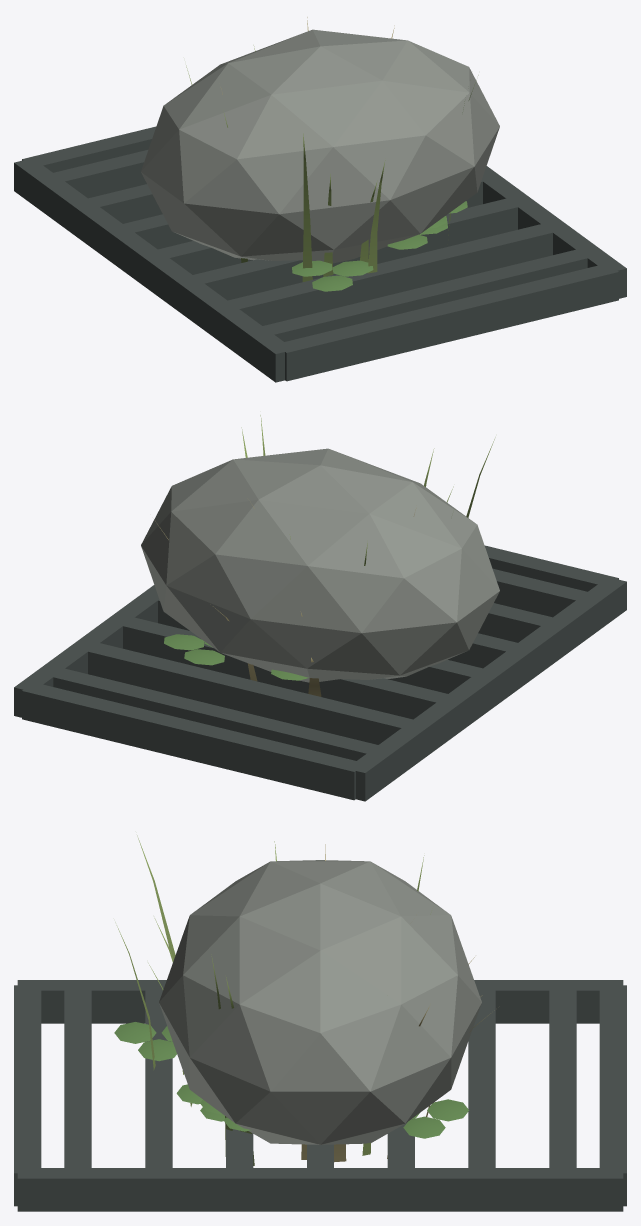
File: field-assets-CqvsqzPk.glb
3 renders of one model, top to bottom at view 1: azimuth 30°, elevation 25°; view 2: azimuth 150°, elevation 25°; view 3: azimuth 270°, elevation 25°, orthographic. The views are drawn at different scales.
Parts seen in each view (by area): view 1: FieldStone, TrailDrain, CloverPatch, GrassTuft; view 2: FieldStone, TrailDrain, CloverPatch; view 3: FieldStone, TrailDrain, CloverPatch, GrassTuft.
Boxes of the visible parts, <box> form: FieldStone: <box>141,29,499,263</box>; TrailDrain: <box>14,126,626,382</box>; CloverPatch: <box>292,201,467,291</box>; GrassTuft: <box>186,45,478,281</box>; FieldStone: <box>141,448,499,682</box>; TrailDrain: <box>14,545,626,801</box>; CloverPatch: <box>164,634,308,680</box>; FieldStone: <box>159,860,481,1144</box>; TrailDrain: <box>14,980,626,1211</box>; CloverPatch: <box>114,1022,469,1138</box>; GrassTuft: <box>115,835,431,1165</box>.
Size of the model in its own units: 0.465 by 0.26 by 0.607.
